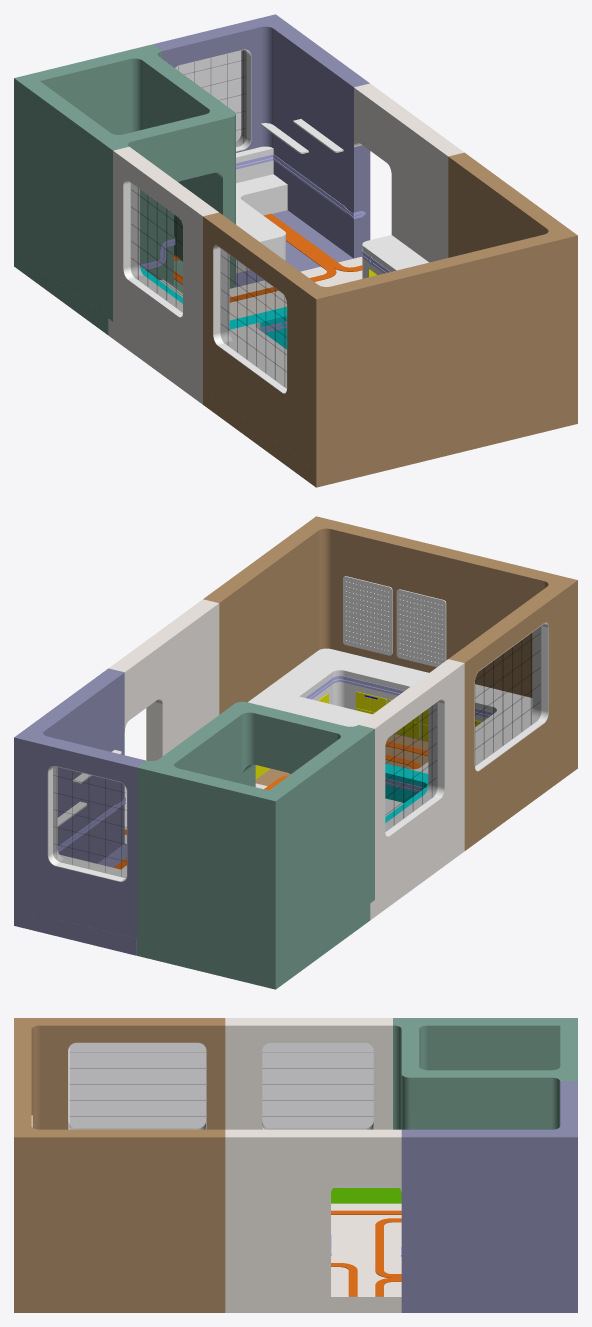
The model's file is vision typeB OptionB.glb.
3 renders of one model, top to bottom at view 1: azimuth 30°, elevation 25°; view 2: azimuth 150°, elevation 25°; view 3: azimuth 270°, elevation 25°, orthographic. The views are drawn at different scales.
Visible parts, largest first — view 1: 厨房墙, 厕所墙, 客厅墙, 卧室墙, 玻璃, 厨房地板, 窗框（金属）, 客厅地板, 橱柜，木制或者整体性强的材质, 床（软包，软垫，皮纹细腻）, 卧室地板, 厕所地板 (+6 smaller); view 2: 厕所墙, 厨房墙, 卧室墙, 客厅墙, 玻璃, 橱柜，木制或者整体性强的材质, 木板, 窗框（金属）, 厕所地板, 厨房地板, 卧室地板, 客厅地板 (+5 smaller); view 3: 厨房墙, 客厅墙, 卧室墙, 玻璃, 厕所墙, 客厅地板, 厨房地板, 卧室地板, PATH, 窗框（金属）, 沙发硬边.
Part boxes in pixels (x1=…): 厨房墙: x1=203, y1=152, x2=577, y2=470; 厕所墙: x1=14, y1=44, x2=235, y2=321; 客厅墙: x1=113, y1=83, x2=464, y2=387; 卧室墙: x1=153, y1=14, x2=370, y2=258; 玻璃: x1=131, y1=50, x2=286, y2=388; 厨房地板: x1=203, y1=388, x2=577, y2=487; 窗框（金属）: x1=123, y1=49, x2=287, y2=393; 客厅地板: x1=108, y1=256, x2=362, y2=404; 橱柜，木制或者整体性强的材质: x1=229, y1=235, x2=428, y2=379; 床（软包，软垫，皮纹细腻）: x1=236, y1=174, x2=287, y2=248; 卧室地板: x1=233, y1=210, x2=353, y2=287; 厕所地板: x1=14, y1=249, x2=182, y2=334; 厕所墙: x1=137, y1=701, x2=374, y2=972; 厨房墙: x1=203, y1=516, x2=577, y2=833; 卧室墙: x1=14, y1=668, x2=145, y2=938; 客厅墙: x1=109, y1=599, x2=464, y2=899; 玻璃: x1=53, y1=626, x2=540, y2=877; 橱柜，木制或者整体性强的材质: x1=248, y1=648, x2=532, y2=777; 木板: x1=57, y1=576, x2=446, y2=826; 窗框（金属）: x1=47, y1=622, x2=548, y2=881; 厕所地板: x1=137, y1=903, x2=370, y2=989; 厨房地板: x1=255, y1=734, x2=577, y2=850; 卧室地板: x1=14, y1=843, x2=136, y2=955; 客厅地板: x1=124, y1=783, x2=464, y2=919; 厨房墙: x1=14, y1=1018, x2=225, y2=1296; 客厅墙: x1=225, y1=1018, x2=401, y2=1296; 卧室墙: x1=401, y1=1081, x2=577, y2=1296; 玻璃: x1=69, y1=1043, x2=373, y2=1129; 厕所墙: x1=393, y1=1018, x2=577, y2=1129; 客厅地板: x1=225, y1=1203, x2=401, y2=1312; 厨房地板: x1=14, y1=1297, x2=225, y2=1312; 卧室地板: x1=401, y1=1297, x2=577, y2=1312; PATH: x1=331, y1=1210, x2=401, y2=1296; 窗框（金属）: x1=68, y1=1042, x2=374, y2=1129; 沙发硬边: x1=331, y1=1188, x2=401, y2=1203.
Bounding box in the file's own units: 4.8 × 3.3 × 9.6.
